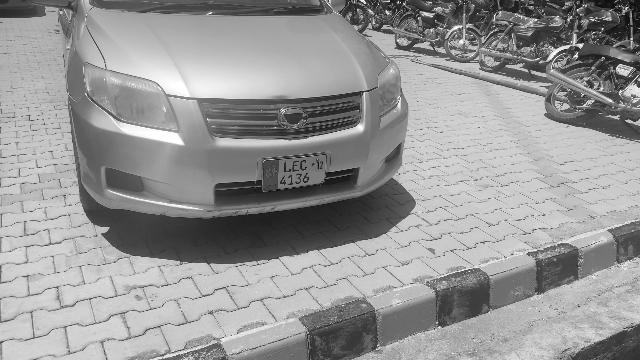Number: (278, 159, 312, 187)
